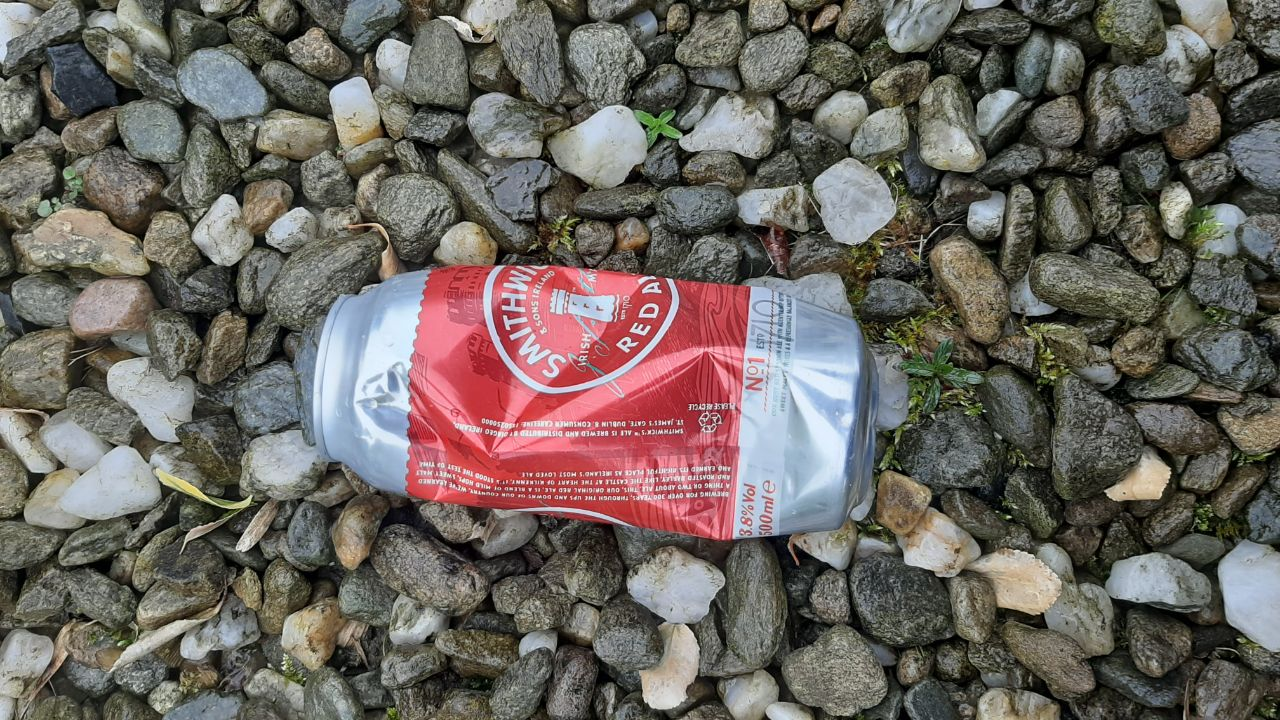Can: (308, 266, 878, 544)
